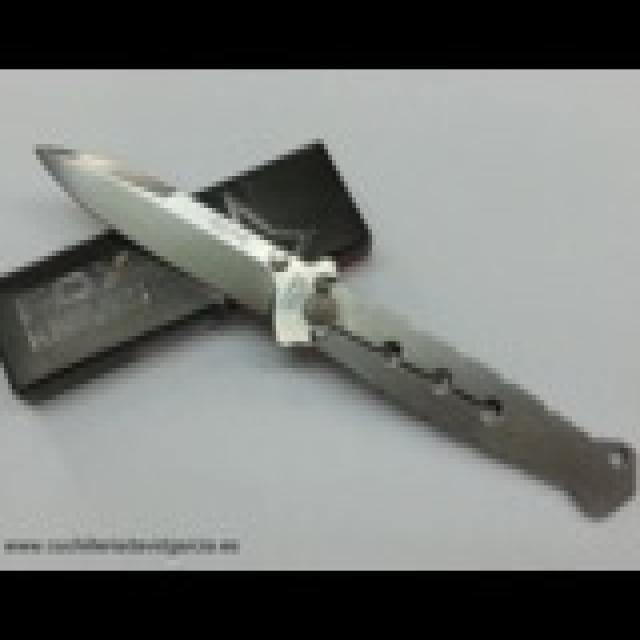Knife: (17, 109, 633, 518)
